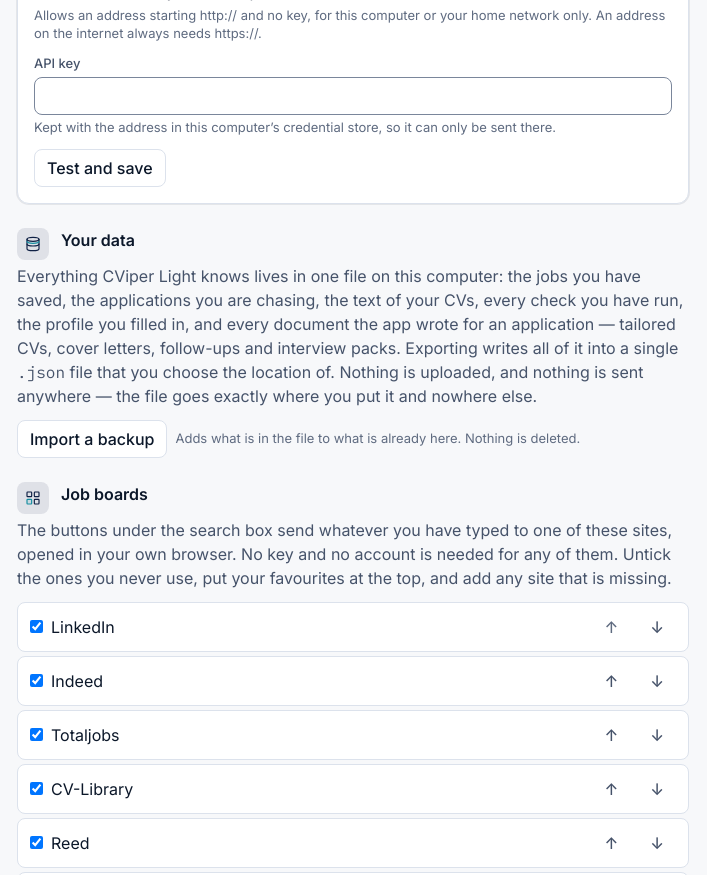
Test: export then import, through the screen › negative: a file with an unnamed sub-stage is refused whole, and nothing is written
(page scrolled)
Click the button with test id "settings-import" at (92, 439), box [17,420,168,458]
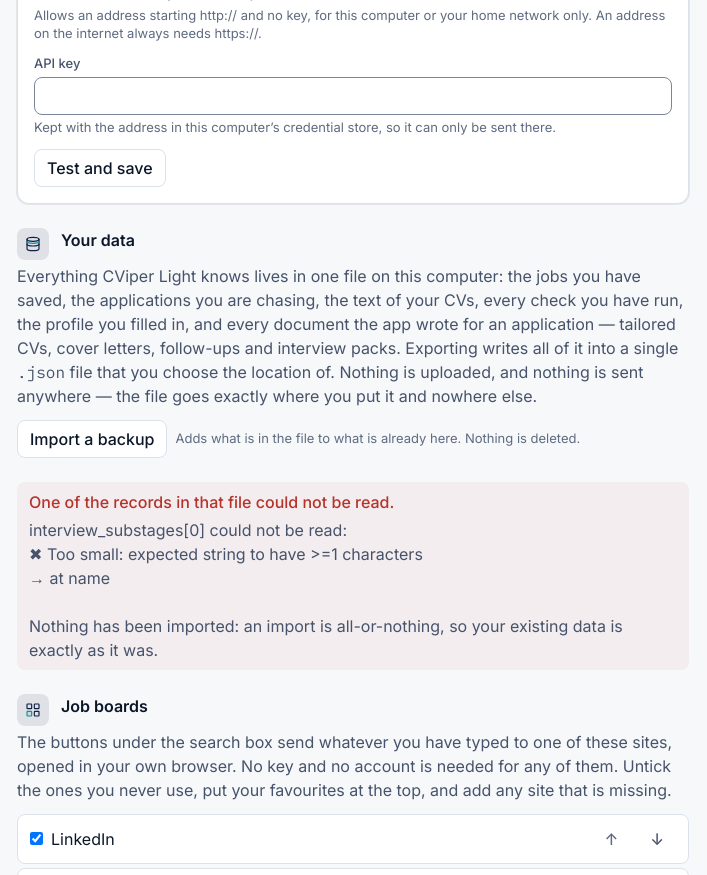
Now the message with test id "settings-problem" shows "interview_substages[0]", box [29,520,623,660]
